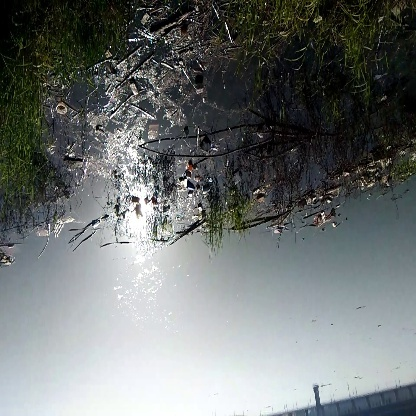branch: (136, 135, 282, 159)
